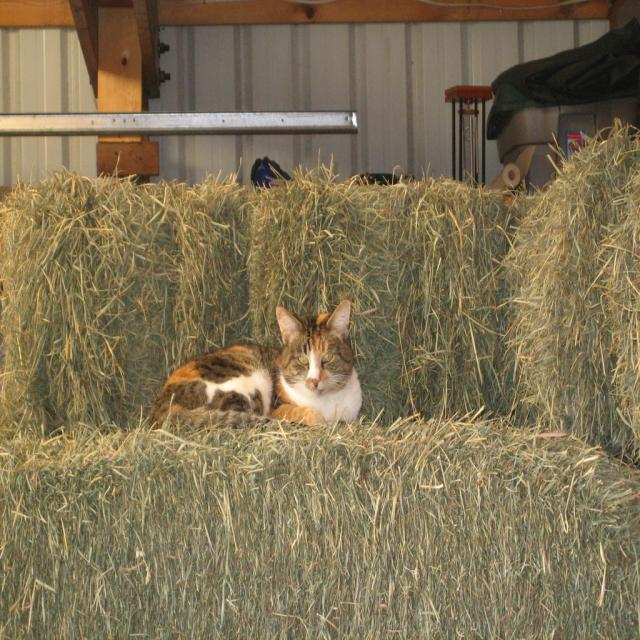Cat: (148, 301, 362, 426)
